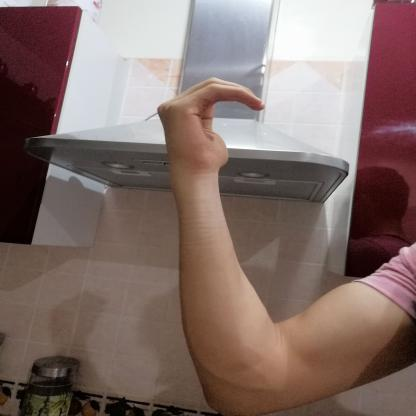HAA: (140, 67, 275, 184)
